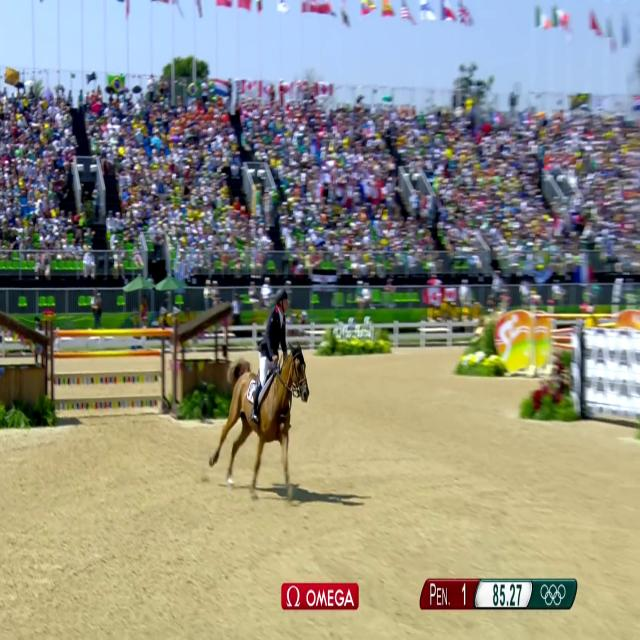Horse Rider: (257, 289, 298, 405)
Horse Running: (211, 334, 321, 502)
